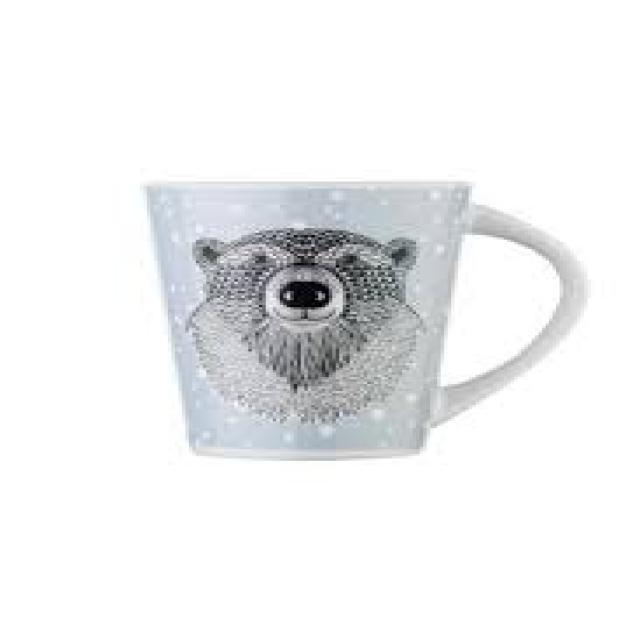taza: (142, 178, 592, 462)
